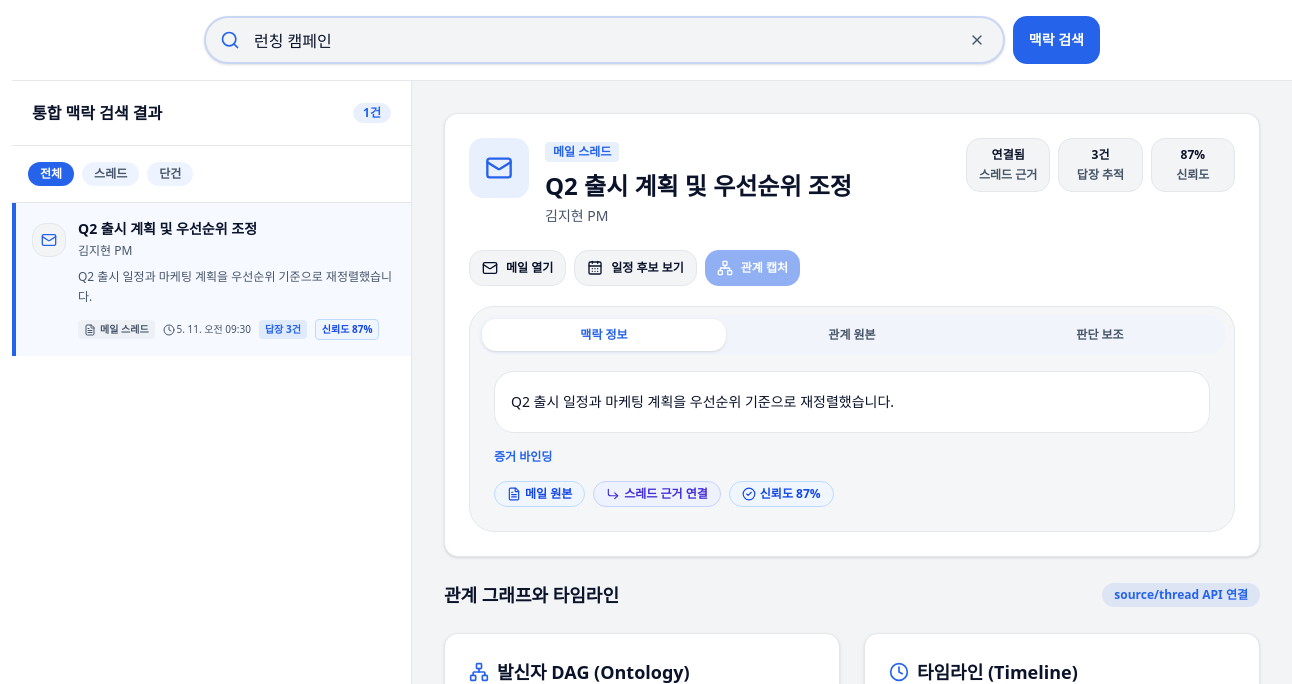
Test: SearchPage › renders API-backed search results with reply tracking and signed session headers
Click the tab "관계 원본" at [852, 335], box [730,319,974,351]
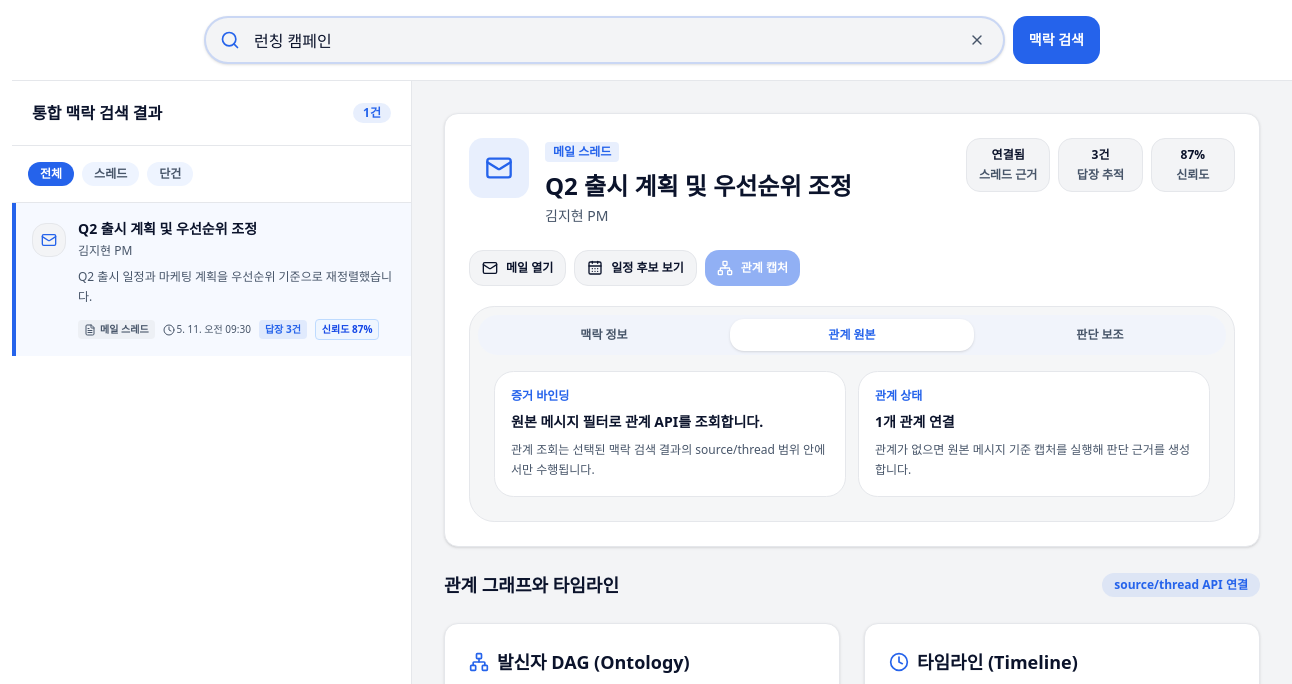
Now the text "관계 상태" is shown, box [875,387,922,404]
Now the text "1개 관계 연결" is shown, box [875,412,955,431]
Click the tab "판단 보조" at [1100, 335], box [978,319,1222,351]
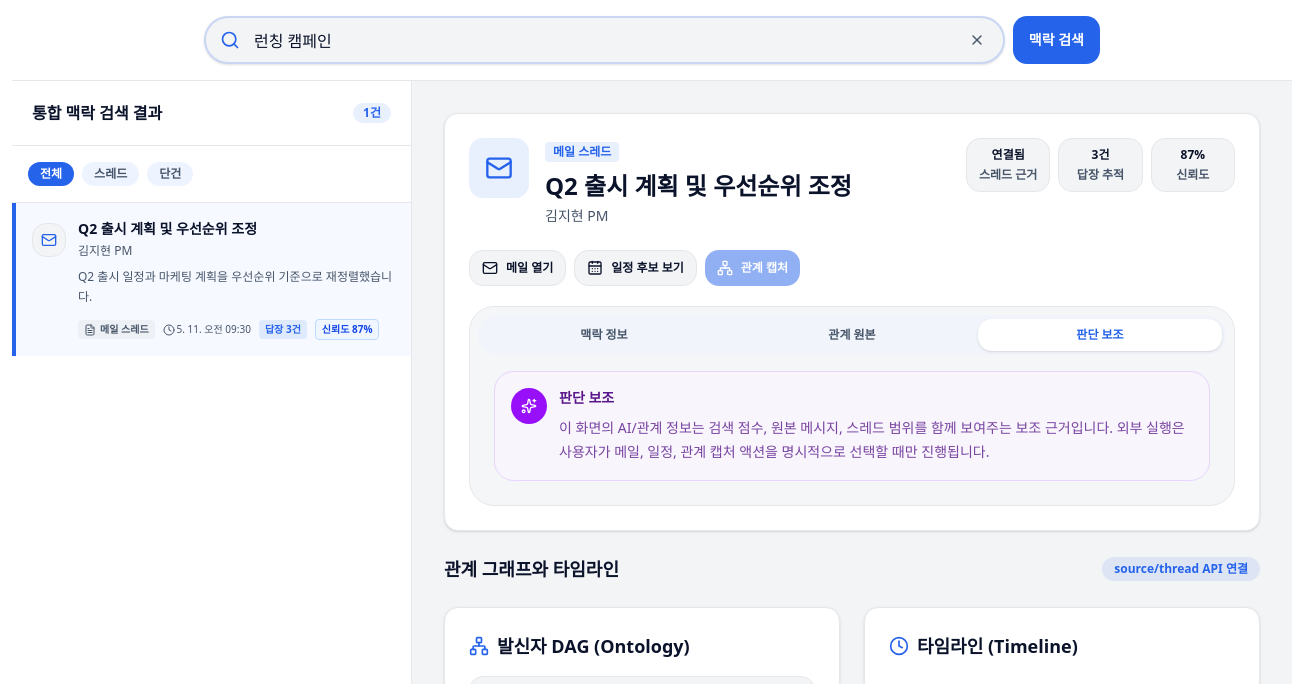
Now the text "외부 실행은 사용자가 메일, 일정, 관계 캡처 액션을 명시적으로 선택할 때만 진행됩니다." is shown, box [559,418,1185,461]
